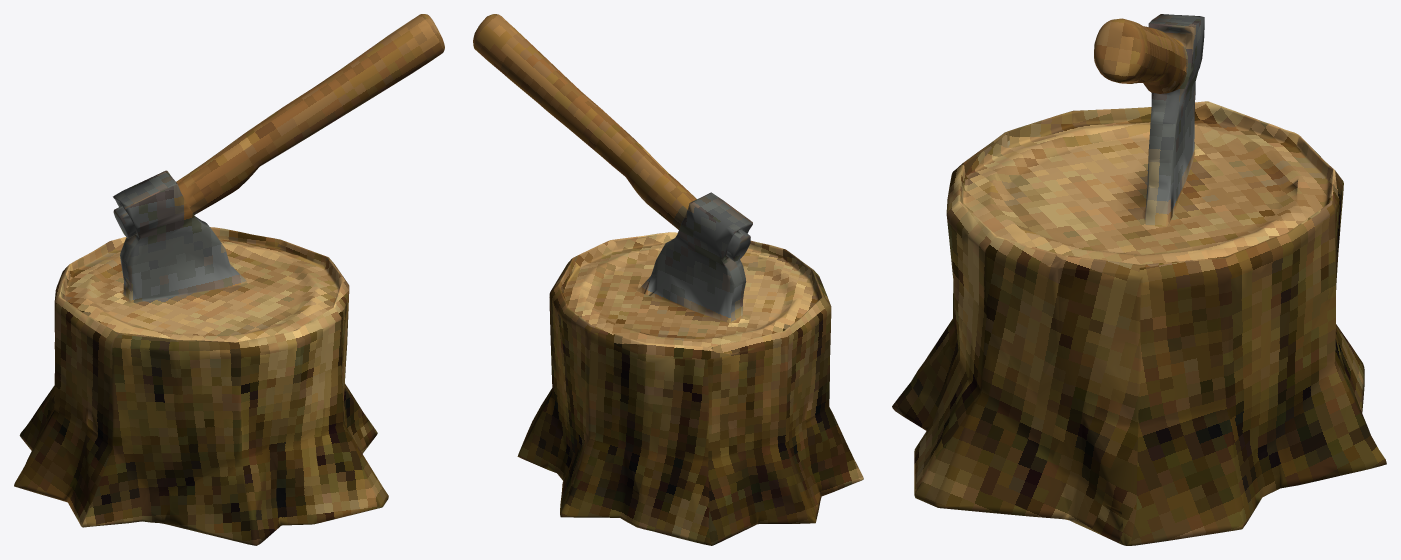
The model's file is axe_stump_psx.glb.
The picture shows the model from 3 angles, left to right: view 1: azimuth 30°, elevation 25°; view 2: azimuth 150°, elevation 25°; view 3: azimuth 270°, elevation 25°; orthographic projection. The views are drawn at different scales.
Parts seen in each view (by area): view 1: machado; view 2: machado; view 3: machado.
Boxes of the visible parts, x1=… form: machado: x1=14, y1=14, x2=444, y2=545; machado: x1=473, y1=14, x2=863, y2=545; machado: x1=892, y1=14, x2=1386, y2=545.
Bounding box in the file's own units: 0.2607 × 0.2609 × 0.2102.
1 material, 1 textured.
